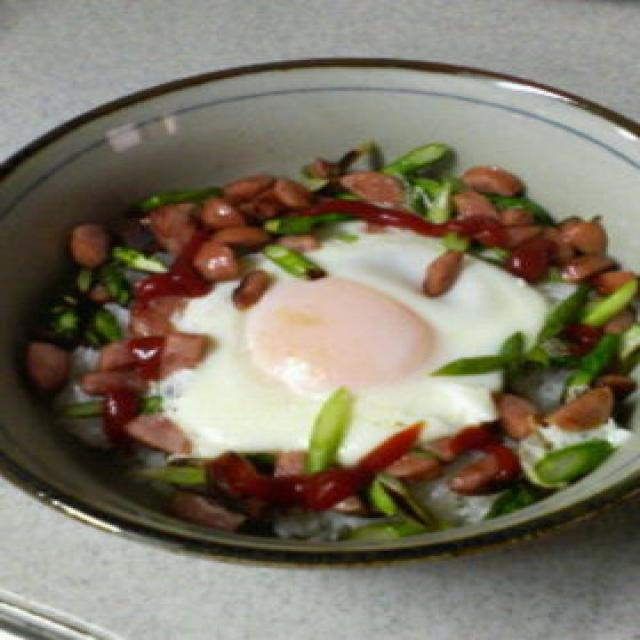鸡蛋料理: (89, 218, 562, 456)
